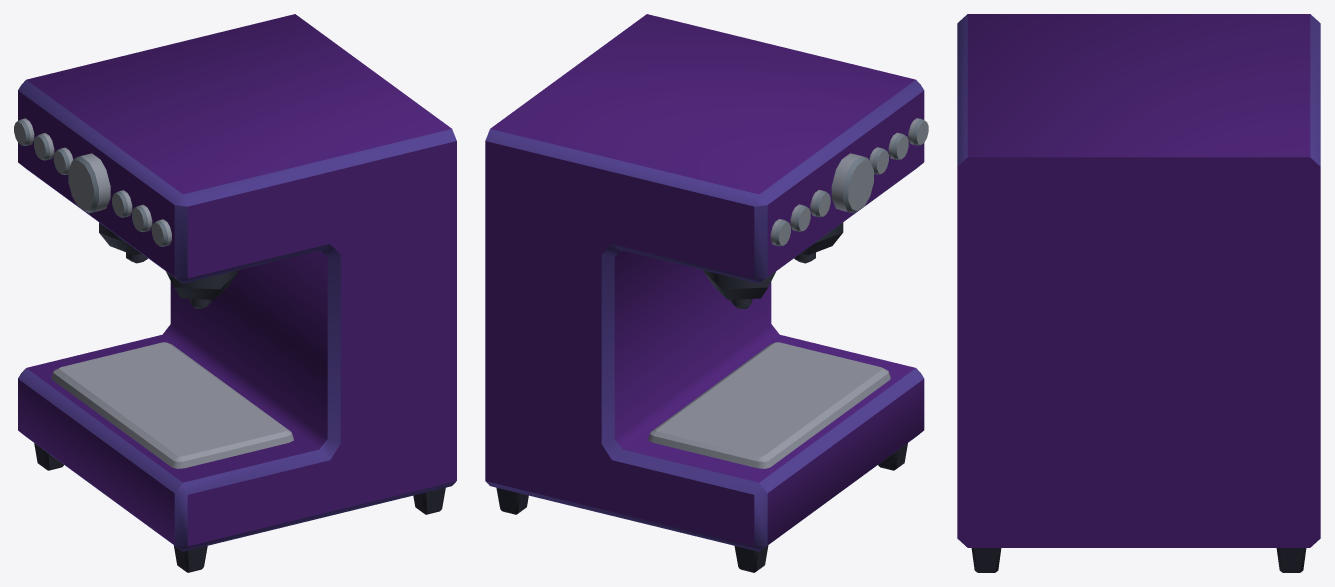
Rendered from CoffeeMachine_1_H.glb.
The picture shows the model from 3 angles, left to right: view 1: azimuth 30°, elevation 25°; view 2: azimuth 150°, elevation 25°; view 3: azimuth 270°, elevation 25°; orthographic projection. The views are drawn at different scales.
Parts seen in each view (by area): view 1: CoffeeMachine_1_H; view 2: CoffeeMachine_1_H; view 3: CoffeeMachine_1_H.
Boxes of the visible parts, x1=… form: CoffeeMachine_1_H: x1=14, y1=14, x2=456, y2=572; CoffeeMachine_1_H: x1=485, y1=14, x2=928, y2=572; CoffeeMachine_1_H: x1=957, y1=14, x2=1320, y2=572.
Size of the model in its own units: 0.4943 by 0.6201 by 0.4868.
Materials: 2 (2 with a texture image).
